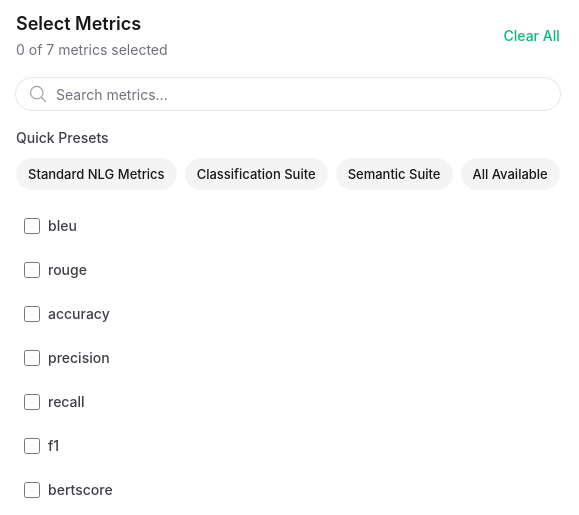
MetricSelector › Search › filters metrics by search query
This screenshot has width=579, height=515.
Step 1. Type "acc" into the search field with placeholder "Search metrics..." → (288, 94), box x1=16 y1=78 x2=560 y2=110
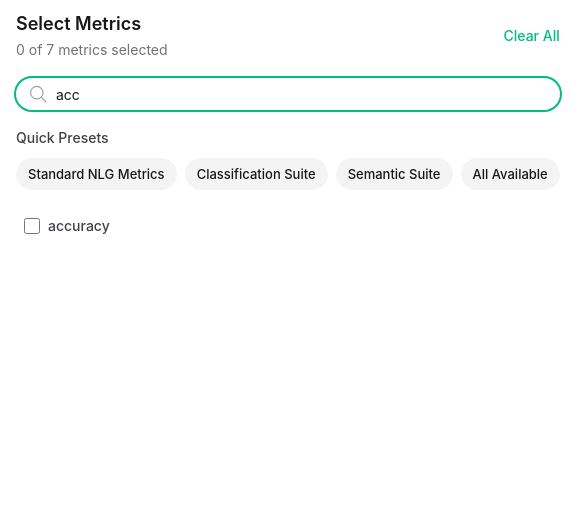
Expected: the text "accuracy" is shown, x1=48 y1=217 x2=110 y2=234
Now the text "f1" is gone
